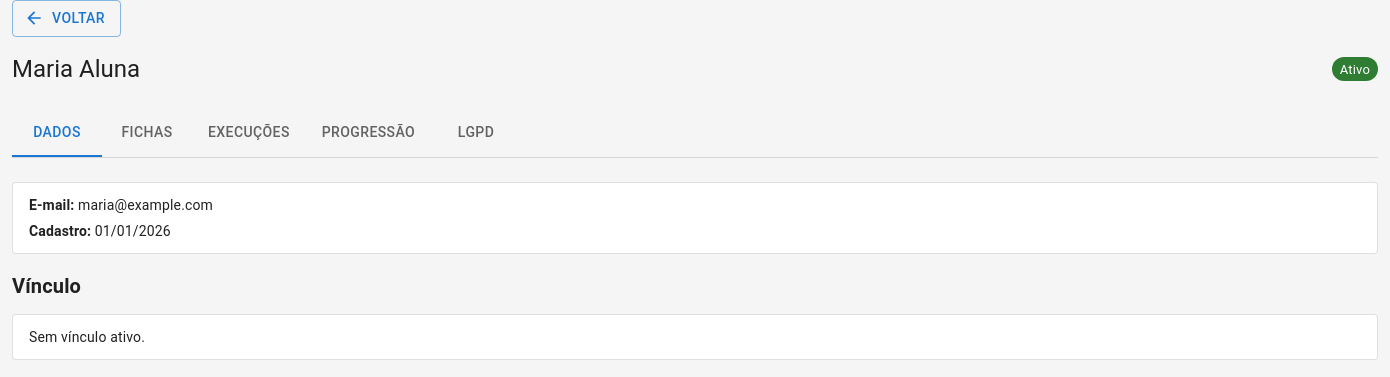
DetalheAlunoAdminPage — abas Fichas e Execuções › aba Execuções lista as execuções registradas ao trocar de aba
Click the tab "Execuções" at [249, 132], box [192, 108, 306, 156]
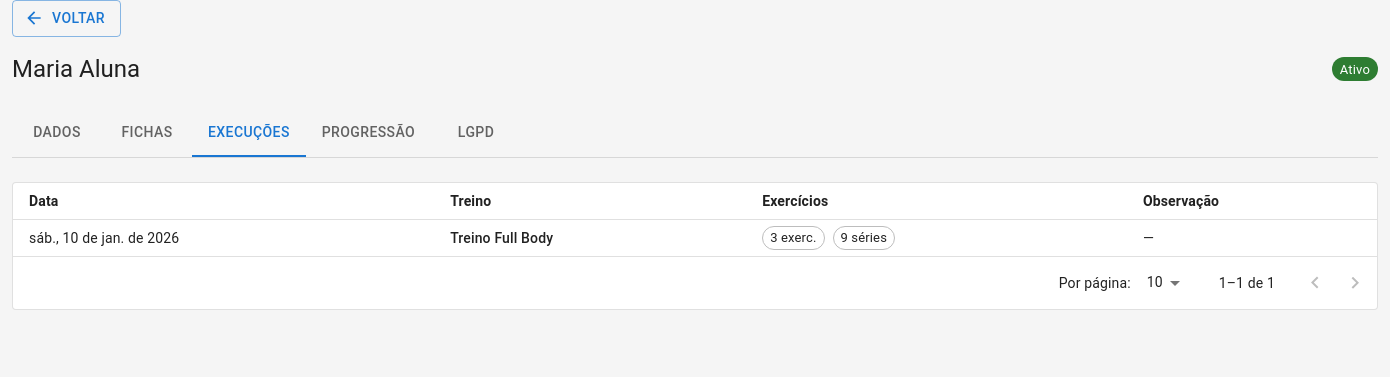
Result: the text "3 exerc." is shown at [770, 230, 817, 245]
Result: the text "9 séries" is shown at [840, 230, 887, 245]
